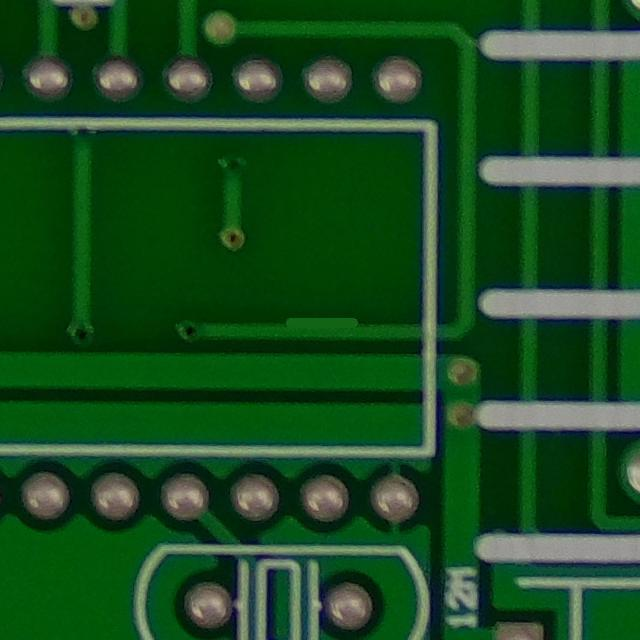spur: (264, 291, 376, 350)
